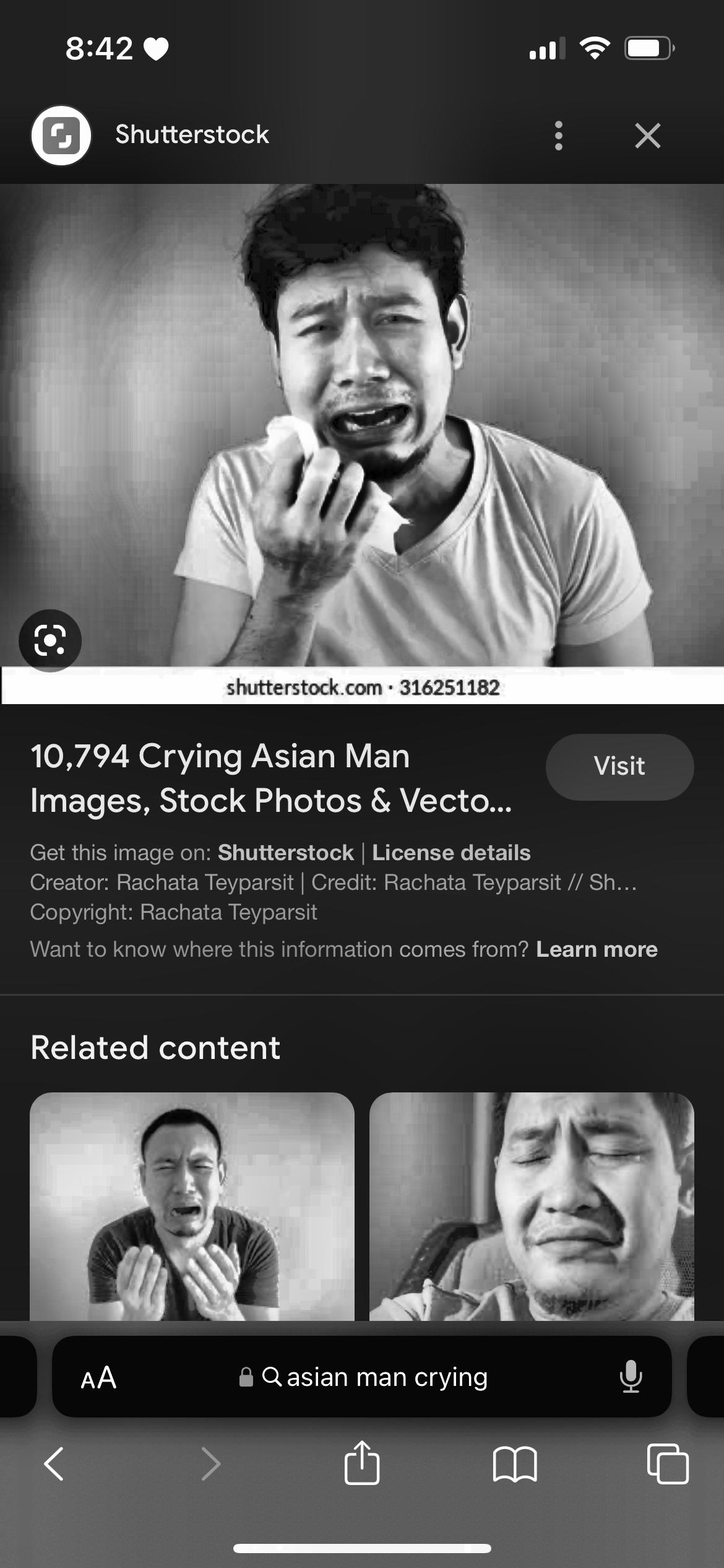sad: (289, 246, 495, 470)
